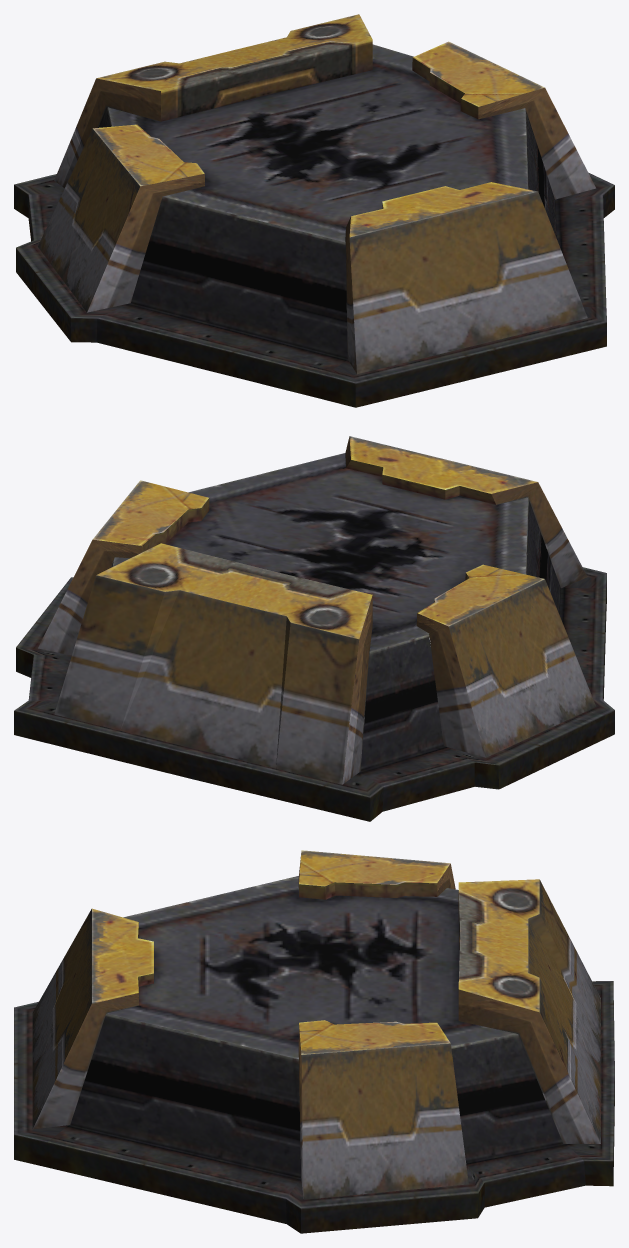
Rendered from yw_yiwangfeixu_zawu03.FBX.
3 renders of one model, top to bottom at view 1: azimuth 30°, elevation 25°; view 2: azimuth 150°, elevation 25°; view 3: azimuth 270°, elevation 25°, orthographic. The views are drawn at different scales.
Visible parts, largest first — view 1: yw_yiwangfeixu_zawu03; view 2: yw_yiwangfeixu_zawu03; view 3: yw_yiwangfeixu_zawu03.
Boxes of the visible parts, x1=… form: yw_yiwangfeixu_zawu03: x1=14, y1=14, x2=614, y2=407; yw_yiwangfeixu_zawu03: x1=14, y1=436, x2=614, y2=821; yw_yiwangfeixu_zawu03: x1=14, y1=850, x2=614, y2=1233.
Size of the model in its own units: 189 by 51.25 by 174.
